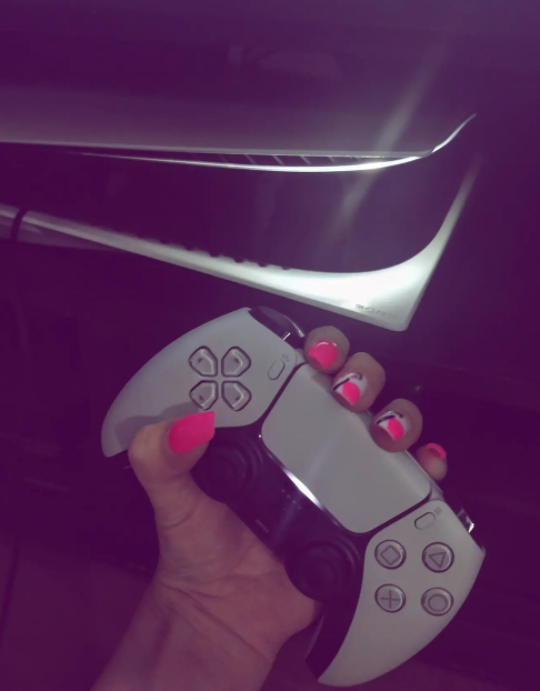gamingconsole: (95, 303, 491, 691)
